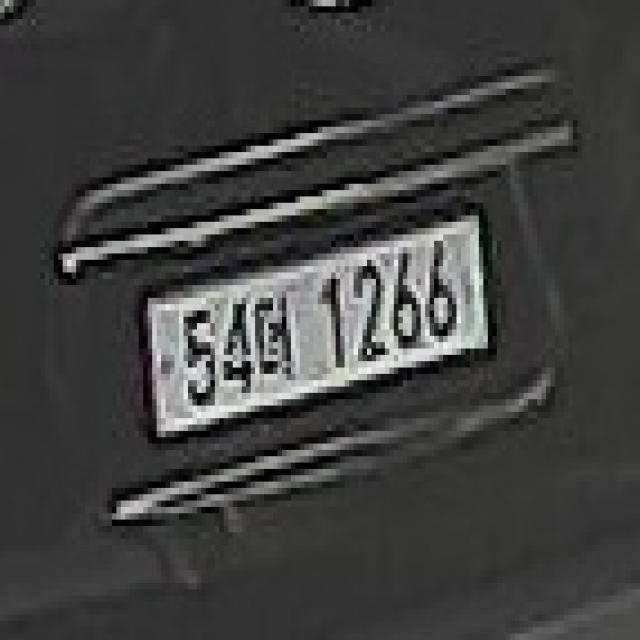1: (313, 266, 345, 374)
2: (349, 247, 385, 368)
4: (219, 272, 260, 393)
5: (179, 292, 224, 406)
6: (421, 209, 461, 336), (389, 247, 421, 361)
deo: (255, 279, 295, 380)
license_plate: (143, 197, 501, 462)
